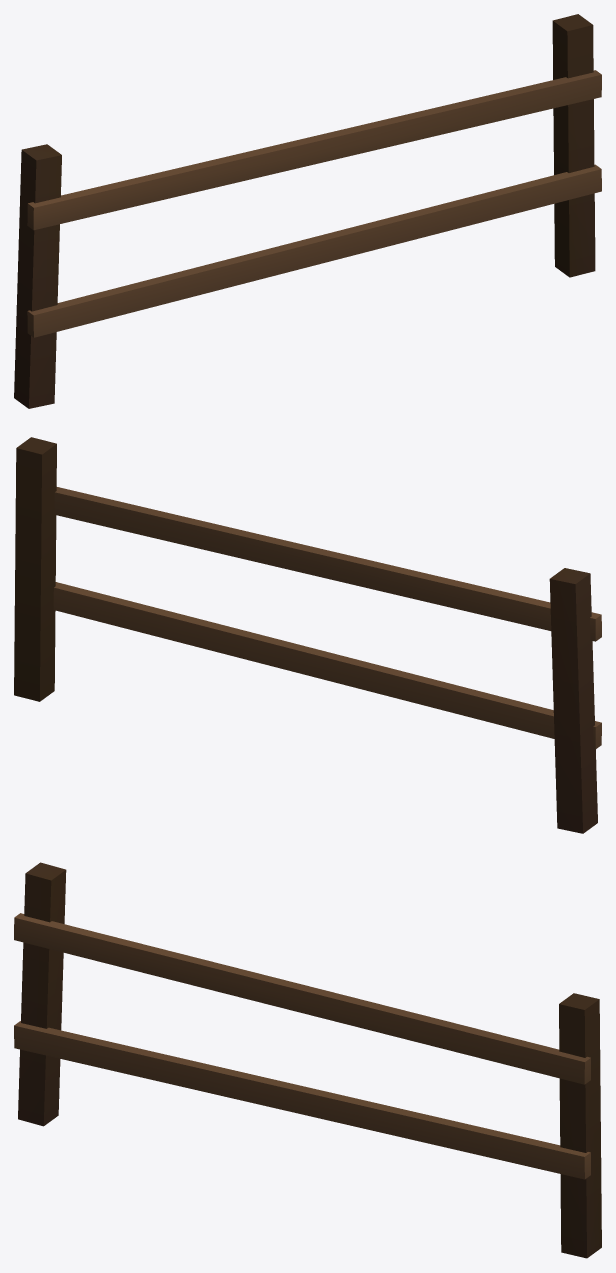
File: fence.glb
3 views of the same model, one above another, from view 1: azimuth 30°, elevation 25°; view 2: azimuth 150°, elevation 25°; view 3: azimuth 330°, elevation 25° (orthographic).
Visible parts, largest first — view 1: fence; view 2: fence; view 3: fence.
Boxes of the visible parts, box(x1,y1,x2,y2) form: fence: box(14, 14, 601, 408); fence: box(14, 437, 601, 833); fence: box(14, 862, 601, 1258).
Size of the model in its own units: 2.65 by 1.1 by 0.155.
